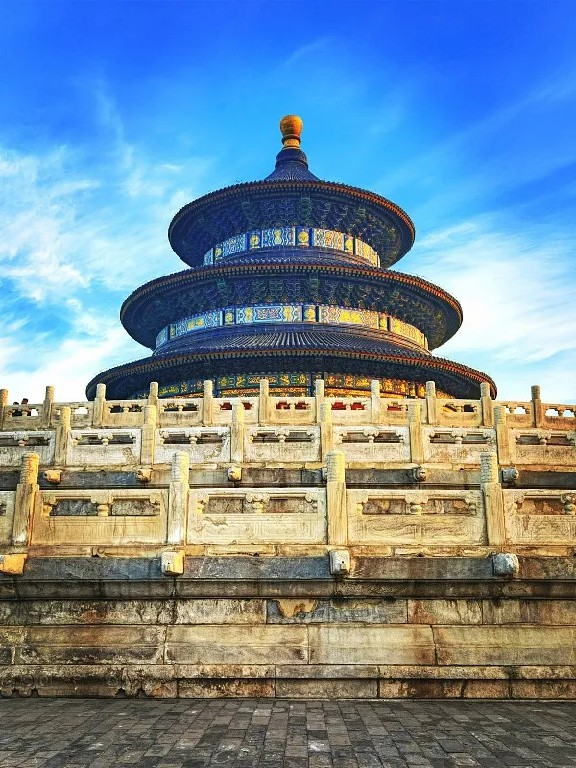Heaven: (83, 110, 503, 399)
